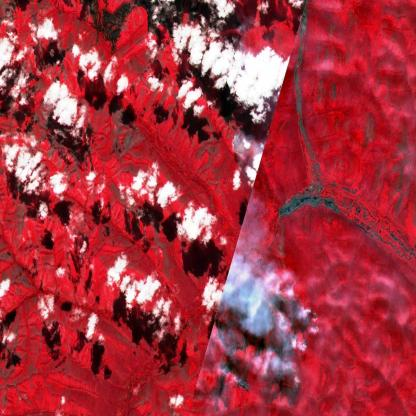fire: (278, 278, 322, 385), (235, 363, 252, 400)
